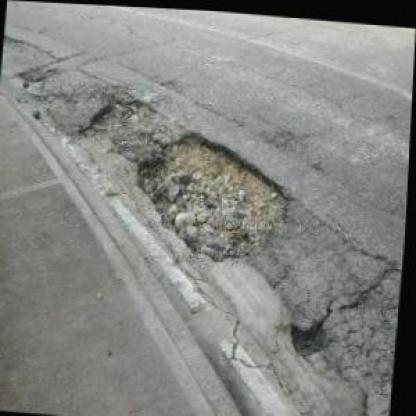pothole: (126, 119, 300, 268), (75, 88, 159, 145), (287, 310, 336, 356), (17, 62, 58, 97)
